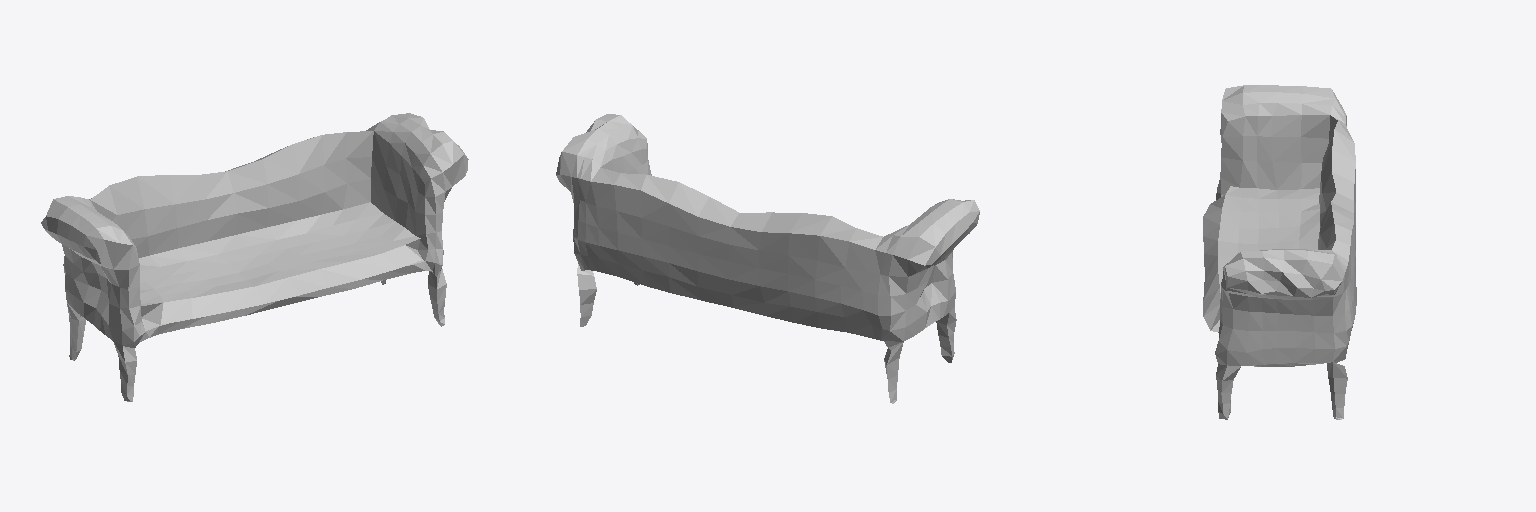
Rendered from Sofa.obj.
The picture shows the model from 3 angles: view 1: azimuth 30°, elevation 25°; view 2: azimuth 150°, elevation 25°; view 3: azimuth 270°, elevation 25°; orthographic projection.
Visible parts, largest first — view 1: Sofa; view 2: Sofa; view 3: Sofa.
Boxes of the visible parts, <box> form: Sofa: <box>41,113,468,401</box>; Sofa: <box>556,114,979,403</box>; Sofa: <box>1203,85,1356,419</box>.
Size of the model in its own units: 248 by 110 by 86.43.